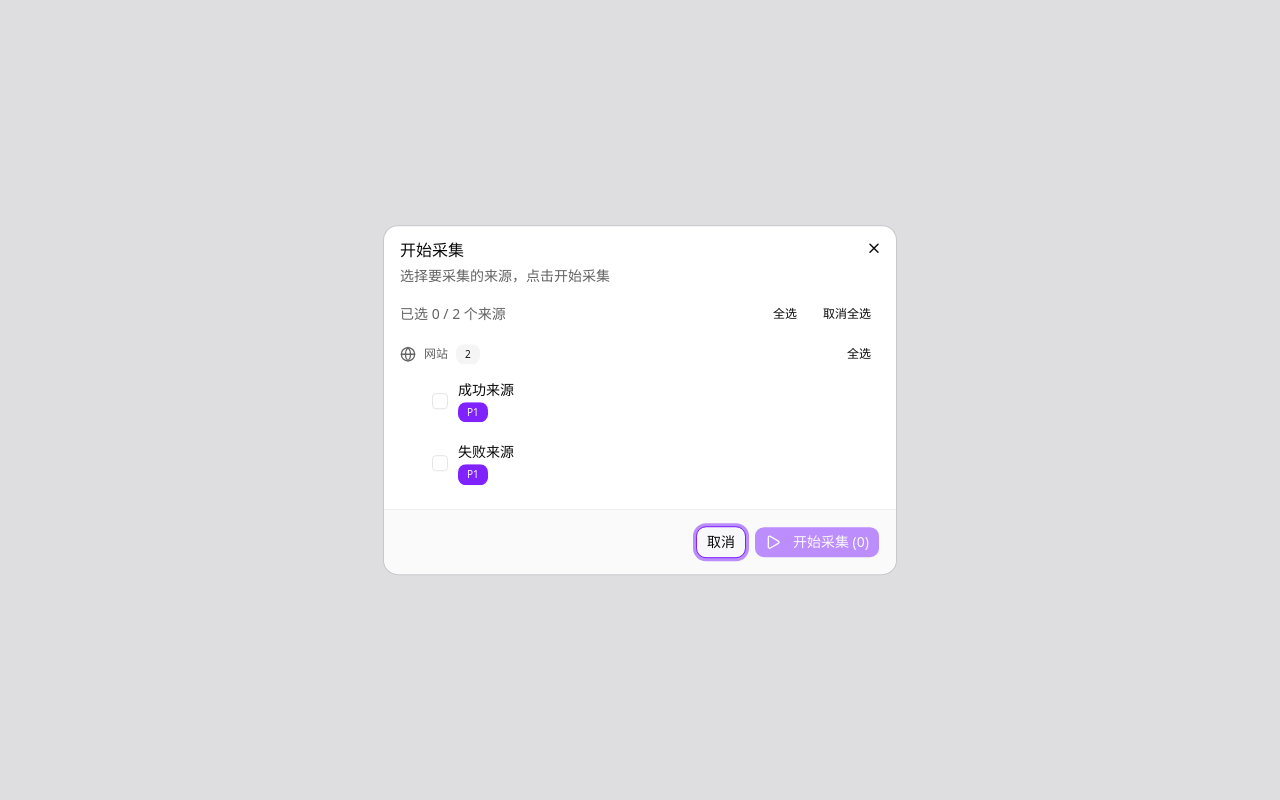
Test: CollectDialog › 应该展示成功和失败来源的状态
Expected: the text "成功来源" is shown, [458, 380, 514, 399]
Note: Select all sources via the global "全选" button
Click the button "全选" in the row of "个来源" at (785, 314), box [764, 302, 806, 326]
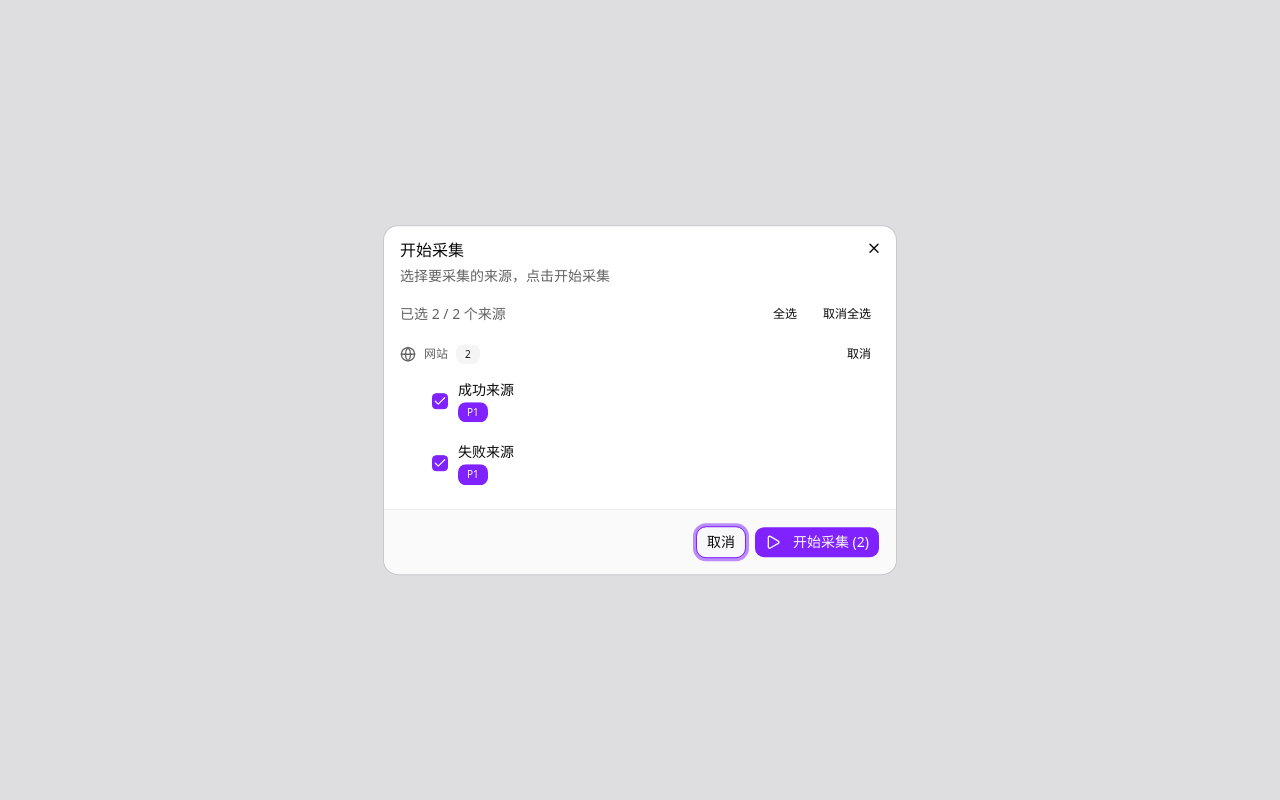
Note: Click collect
Click the button "开始采集 (2)" at (817, 542), box [754, 526, 880, 558]
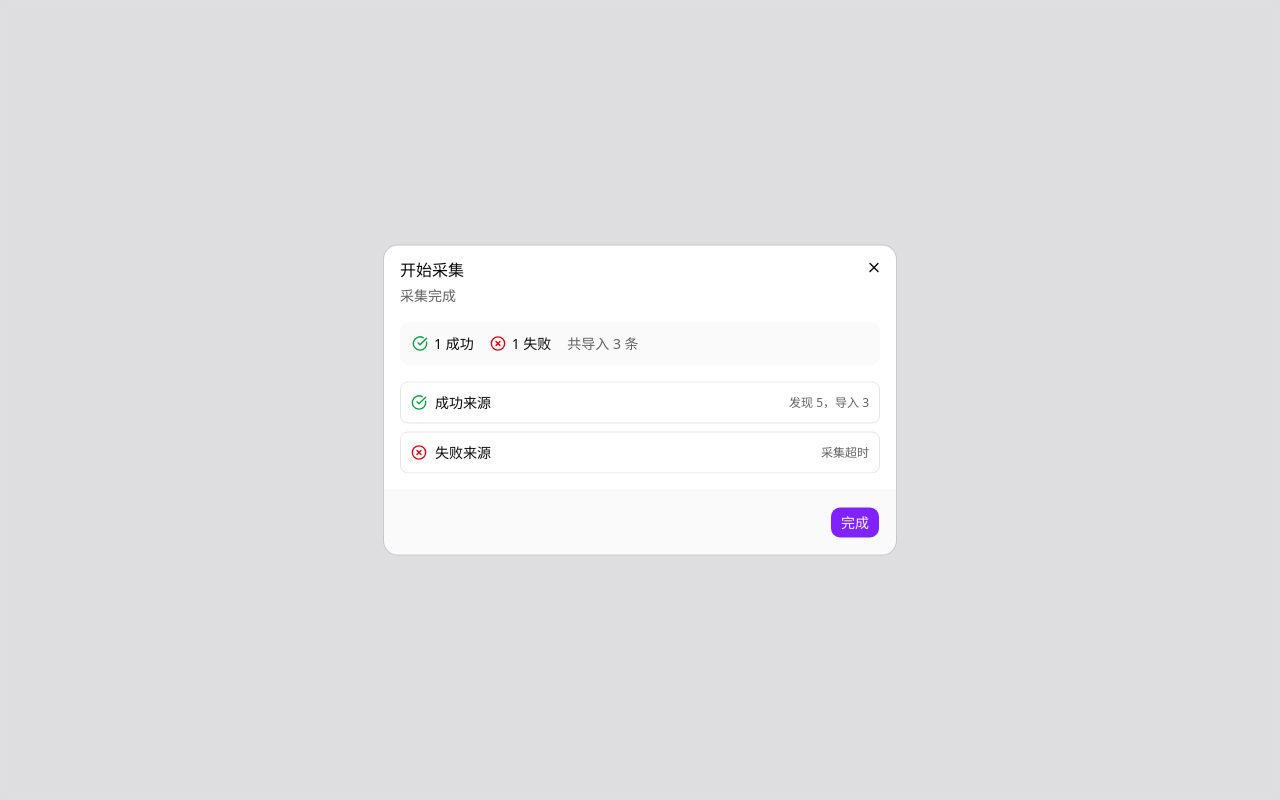
Result: the text "采集完成" is shown at [400, 286, 456, 304]
Result: the text "1 成功" is shown at [434, 334, 474, 354]
Result: the text "采集超时" is shown at [821, 444, 869, 460]
